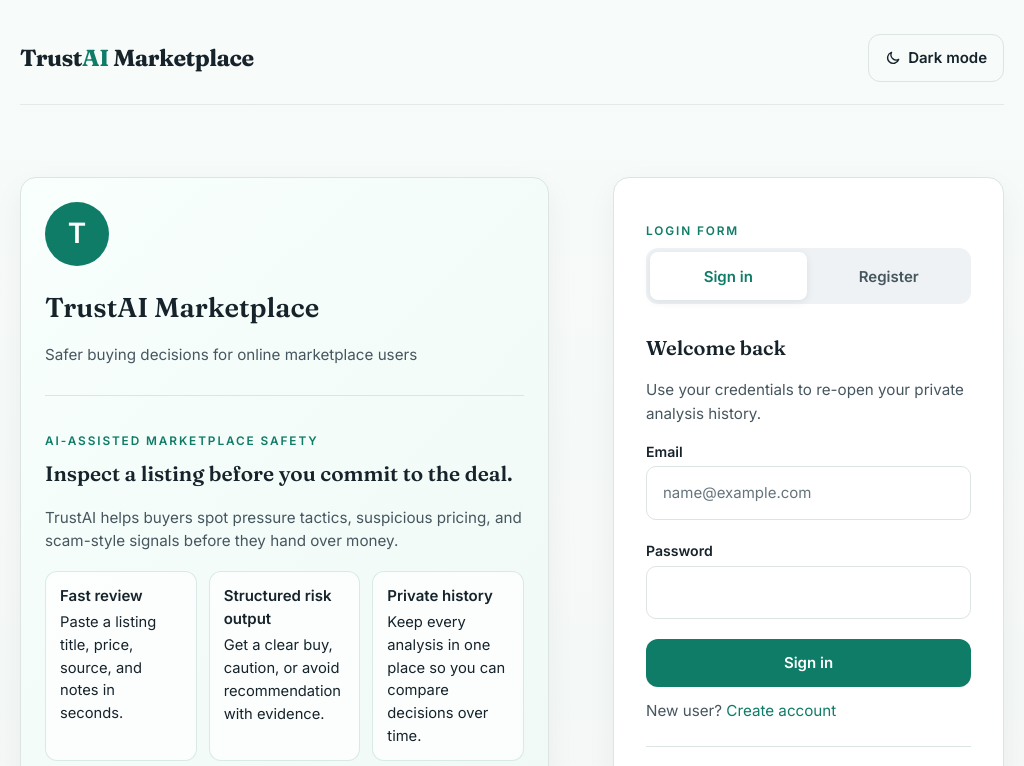
theme preference › toggles data-theme, color-scheme, persistence, and its accessible action
The width and height of the screenshot is (1024, 766).
Click the button with aria-label "Switch to dark mode". click: (936, 58)
box: [868, 34, 1004, 82]
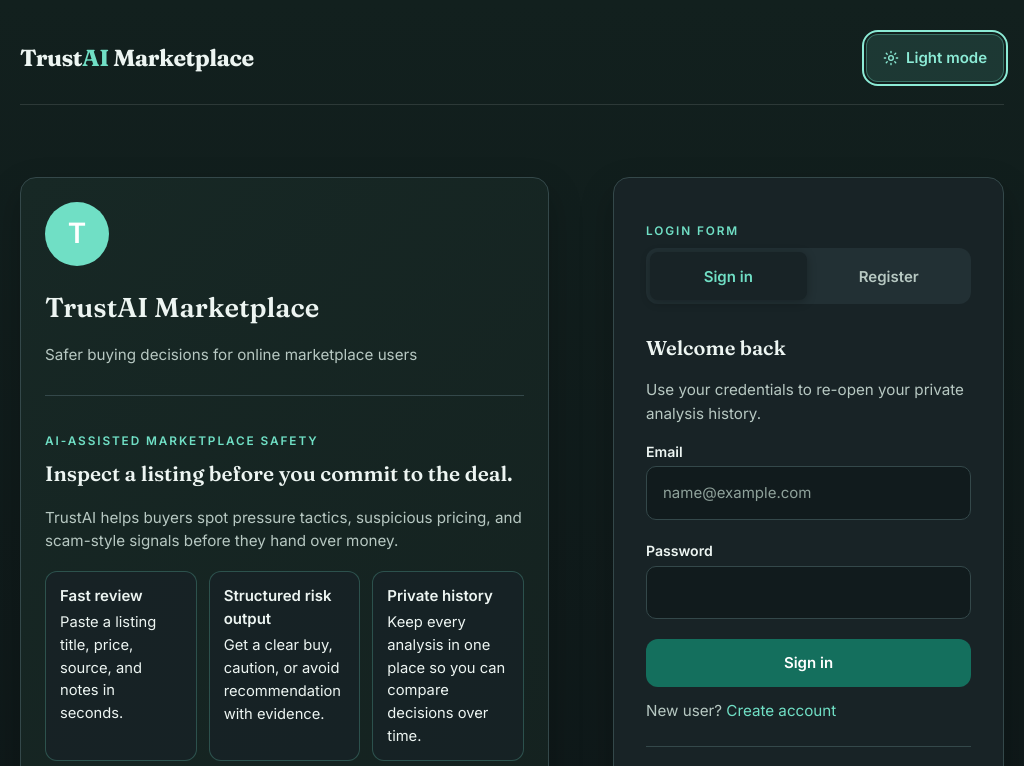
Expected: the icon is shown, [883, 50, 899, 66]
Result: the button with aria-label "Switch to light mode" reads "Light mode" at [866, 34, 1004, 82]
